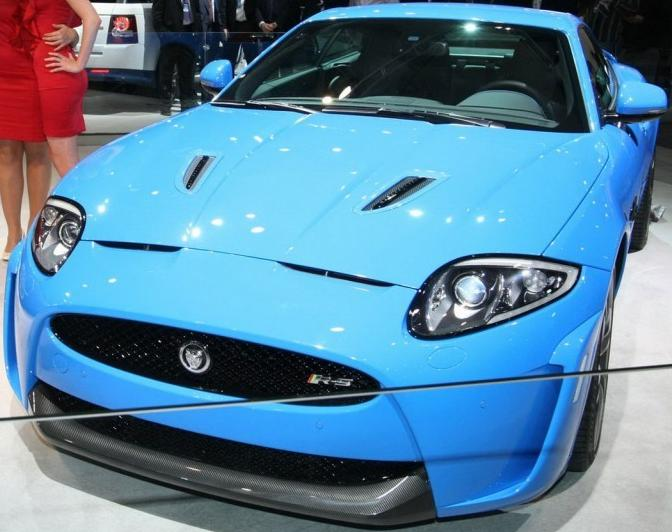front_view: (0, 185, 596, 532)
headlight: (395, 245, 588, 344)
